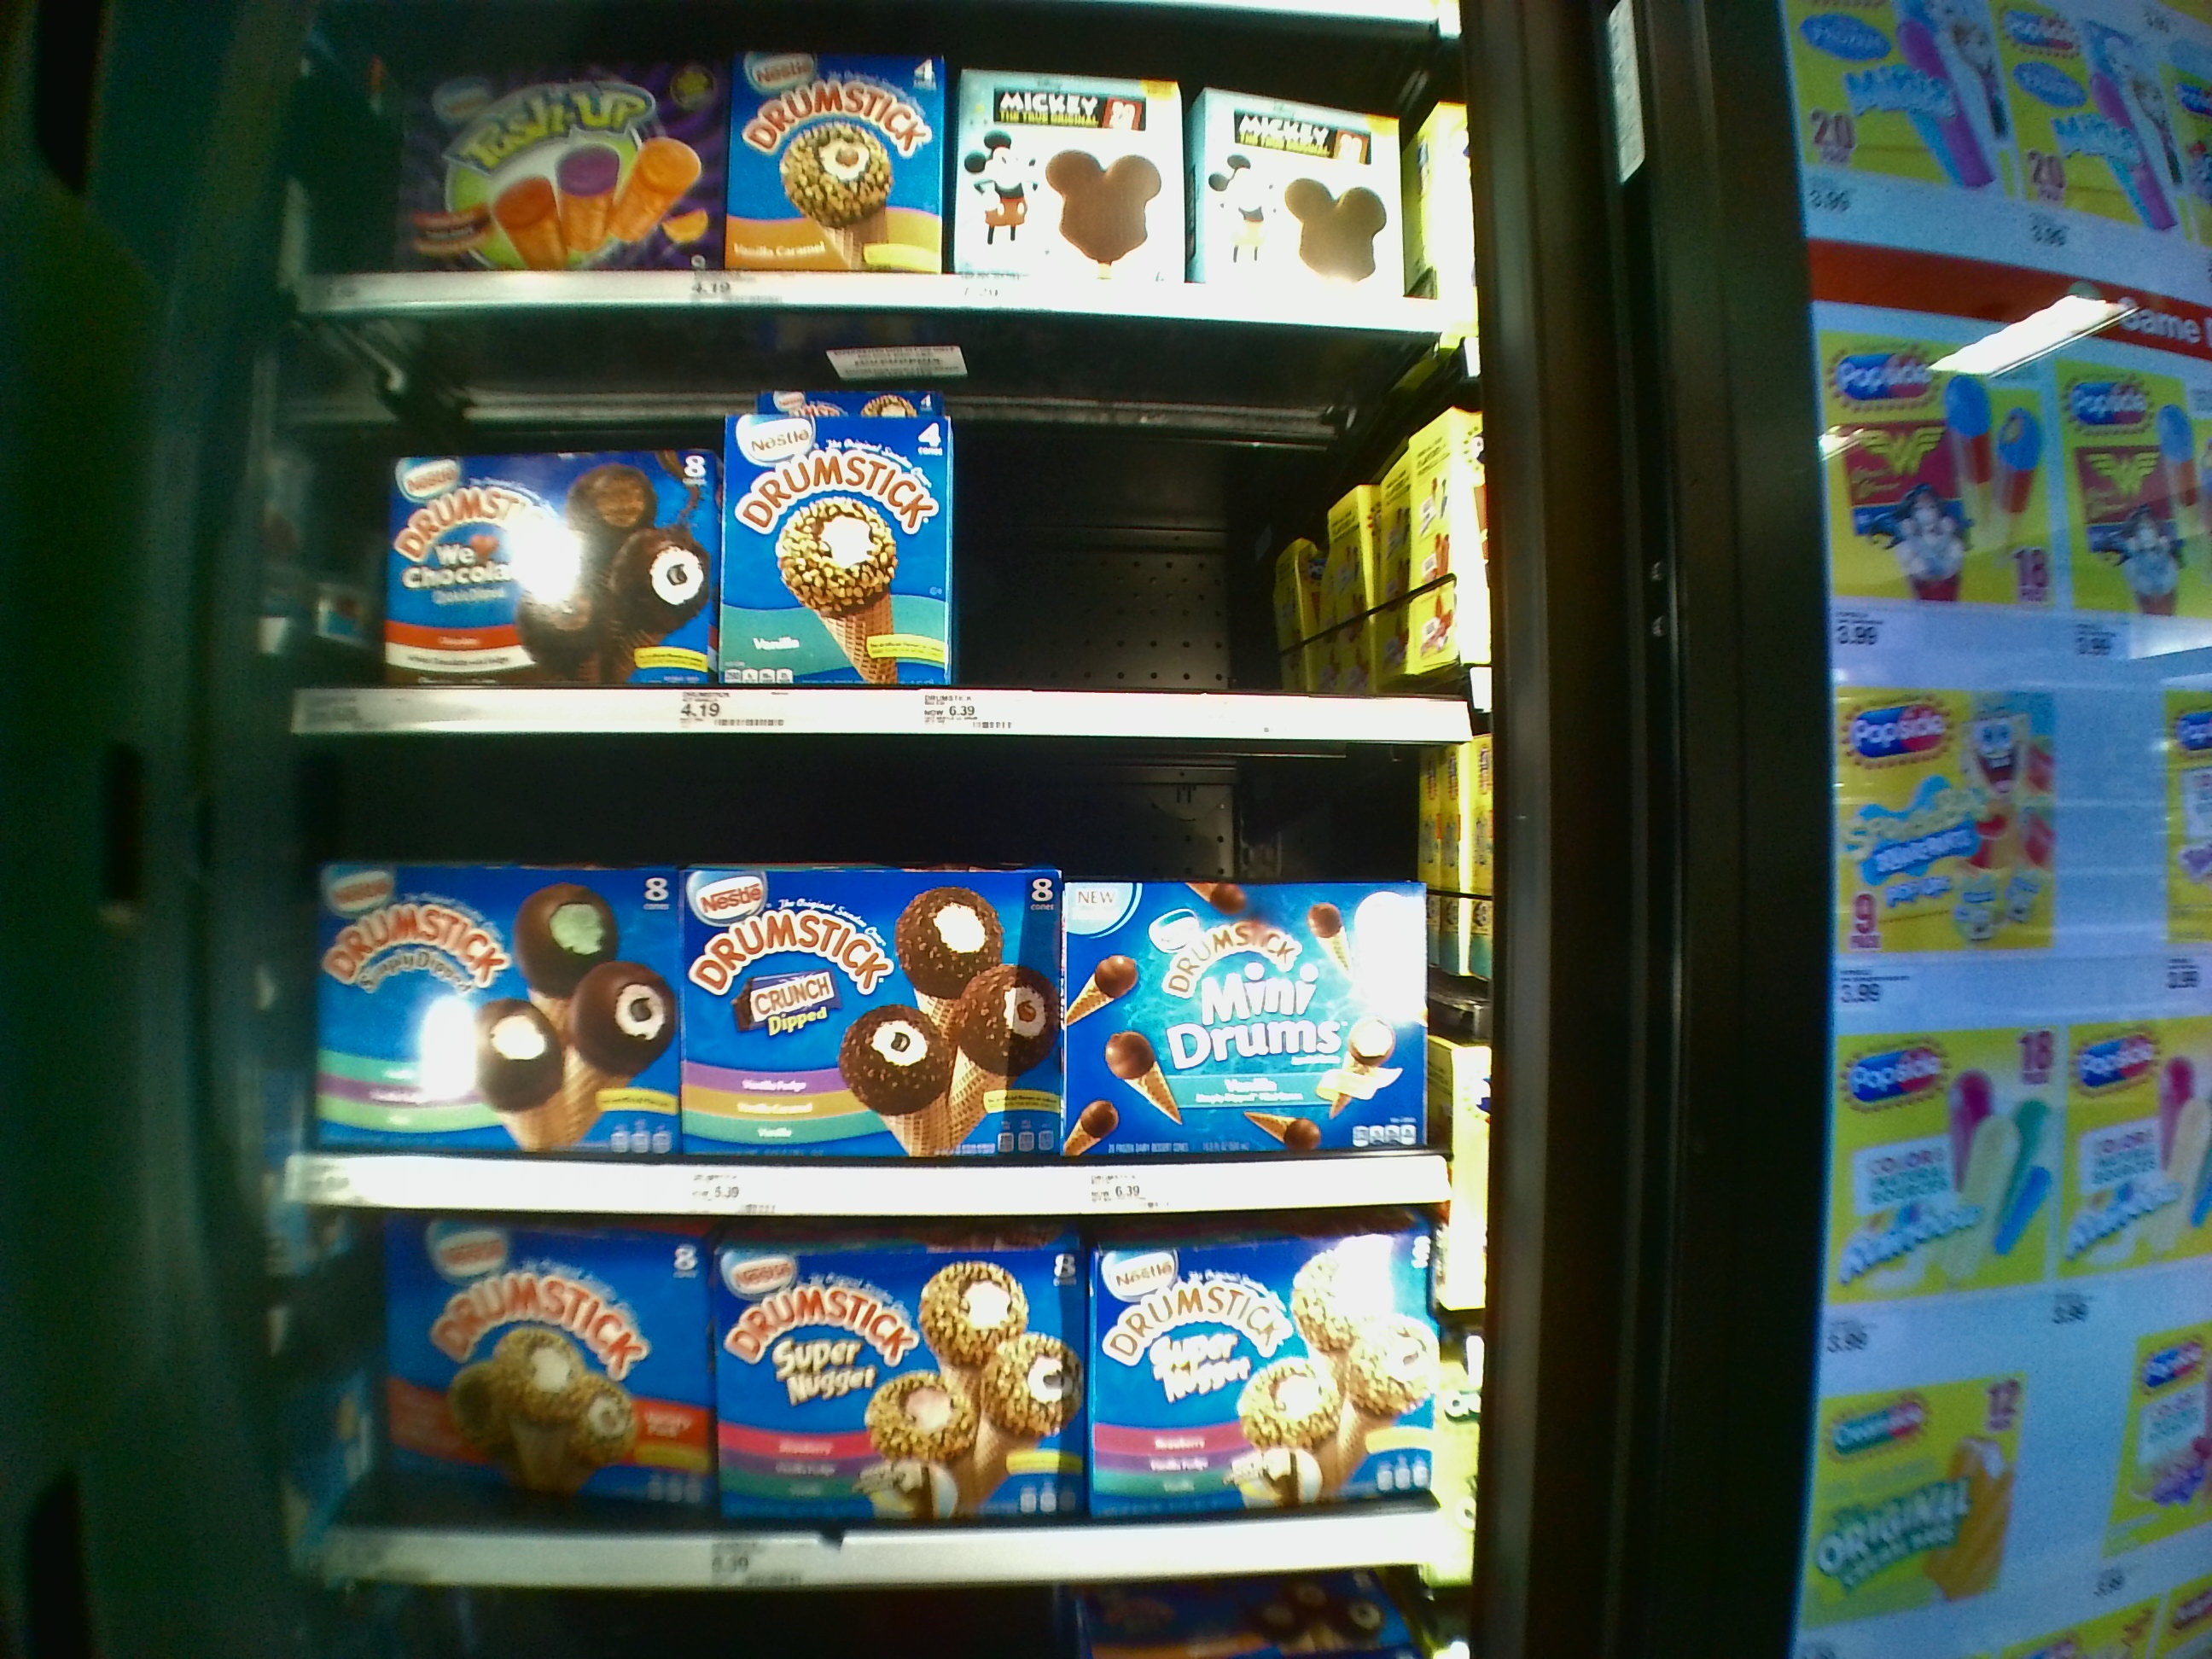shelf: (301, 735, 1467, 1208), (307, 317, 1470, 742), (300, 1206, 1468, 1588)
